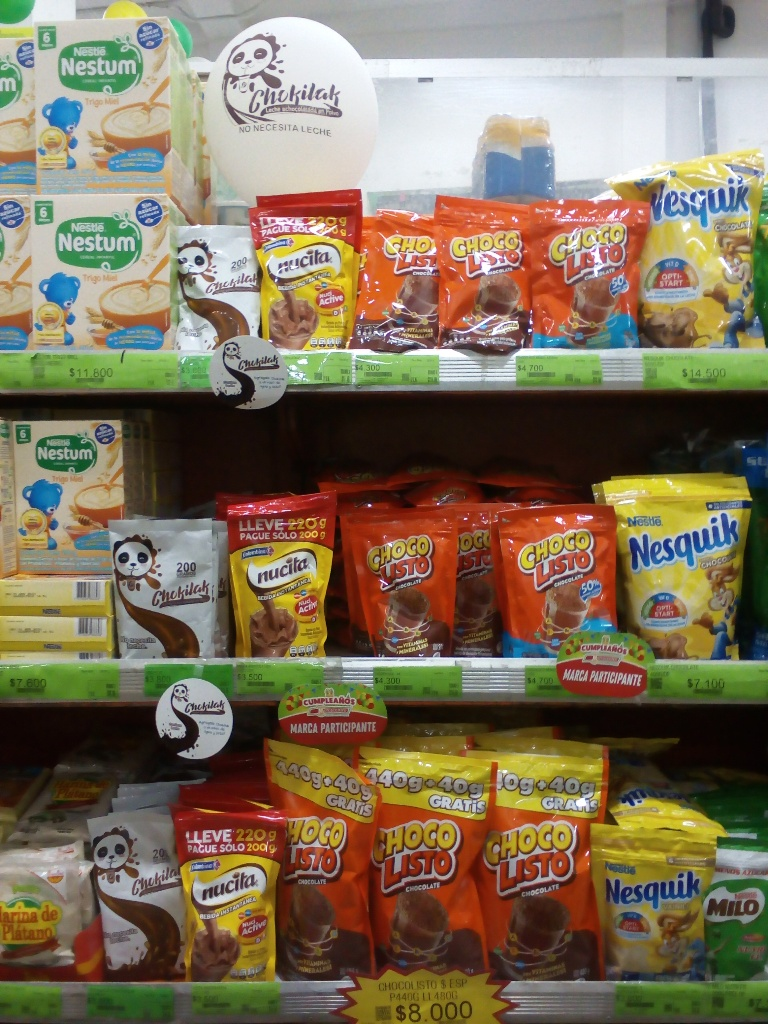COL0170103DYP20000: (431, 192, 535, 353)
COL0170104DYP20000: (492, 506, 621, 656)
COL0170205DYP20000: (702, 844, 768, 977)
COL0170306DYP20000: (589, 820, 712, 979)
